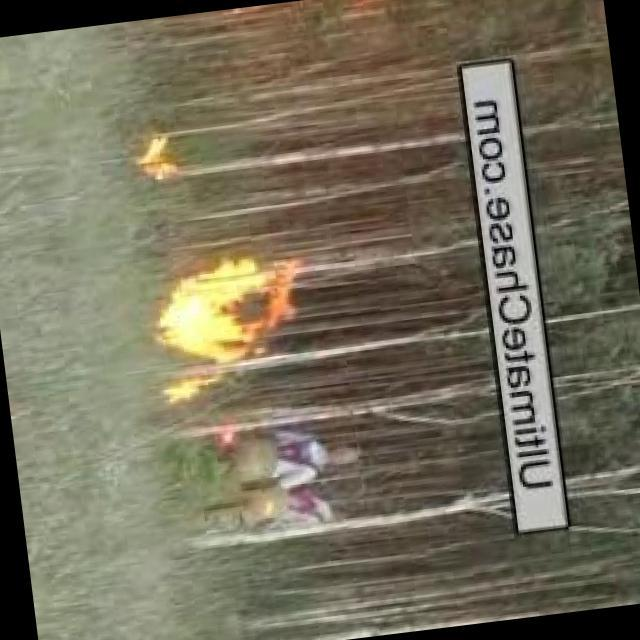Fire: (153, 253, 305, 371), (131, 141, 174, 179)
